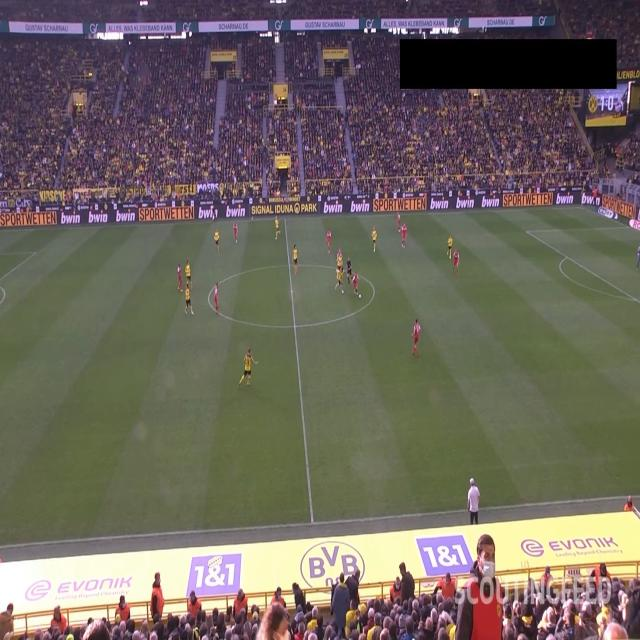ball: (358, 294, 362, 299)
